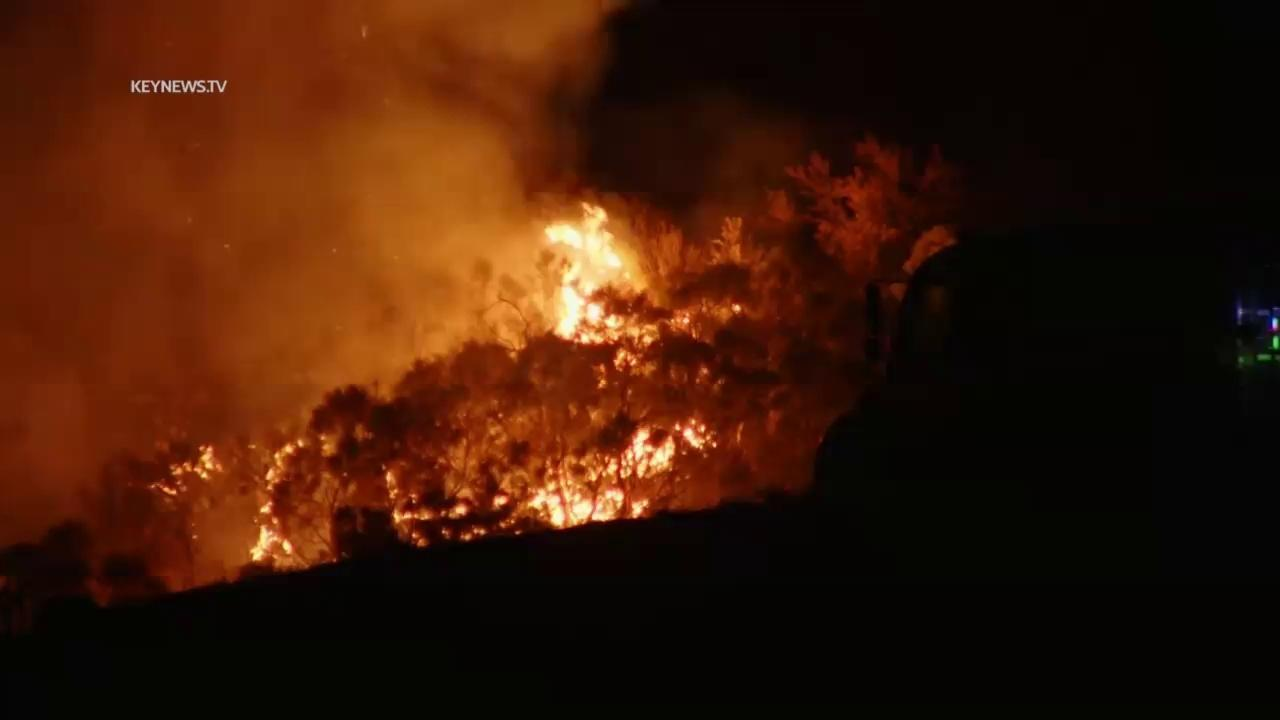fire: (523, 195, 723, 538), (374, 457, 521, 549), (245, 437, 310, 566), (142, 444, 231, 499), (728, 298, 743, 319)
smoke: (0, 0, 669, 641)
